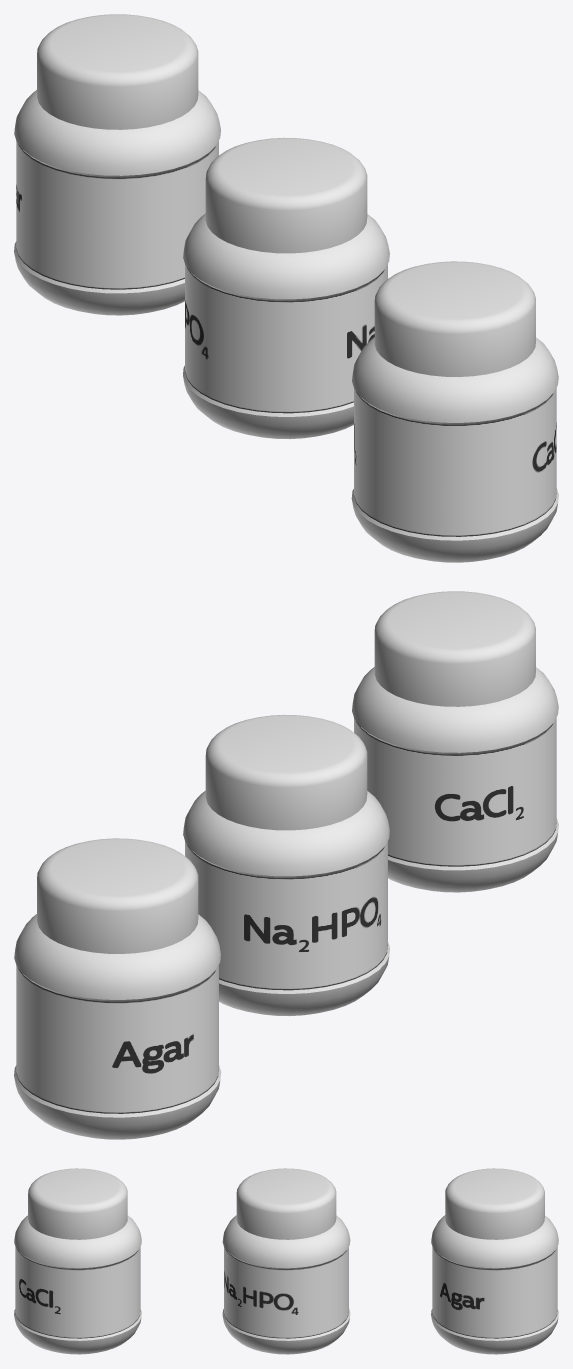
The model's file is 10ReactivyFilled.fbx.
3 renders of one model, top to bottom at view 1: azimuth 30°, elevation 25°; view 2: azimuth 150°, elevation 25°; view 3: azimuth 270°, elevation 25°, orthographic. The views are drawn at different scales.
Visible parts, largest first — view 1: base, base.002, base.003, cap.001, cap, cap.002; view 2: base.002, base, base.003, cap.001, cap, cap.002; view 3: base.002, base, base.003, cap.001, cap, cap.002.
Part boxes in pixels (bbox=[...]): base: bbox=[351, 337, 558, 562]; base.002: bbox=[14, 90, 220, 315]; base.003: bbox=[183, 213, 389, 439]; cap.001: bbox=[205, 137, 367, 253]; cap: bbox=[374, 261, 535, 376]; cap.002: bbox=[37, 14, 198, 129]; base.002: bbox=[14, 914, 221, 1139]; base: bbox=[352, 667, 558, 892]; base.003: bbox=[183, 790, 389, 1016]; cap.001: bbox=[205, 714, 367, 830]; cap: bbox=[374, 591, 535, 706]; cap.002: bbox=[37, 838, 198, 953]; base.002: bbox=[431, 1215, 558, 1354]; base: bbox=[14, 1215, 141, 1354]; base.003: bbox=[222, 1215, 350, 1354]; cap.001: bbox=[236, 1168, 336, 1239]; cap: bbox=[28, 1168, 127, 1239]; cap.002: bbox=[445, 1168, 544, 1239].
Size of the model in its own units: 150 by 194 by 639.
Materials: 5 (3 with a texture image).
